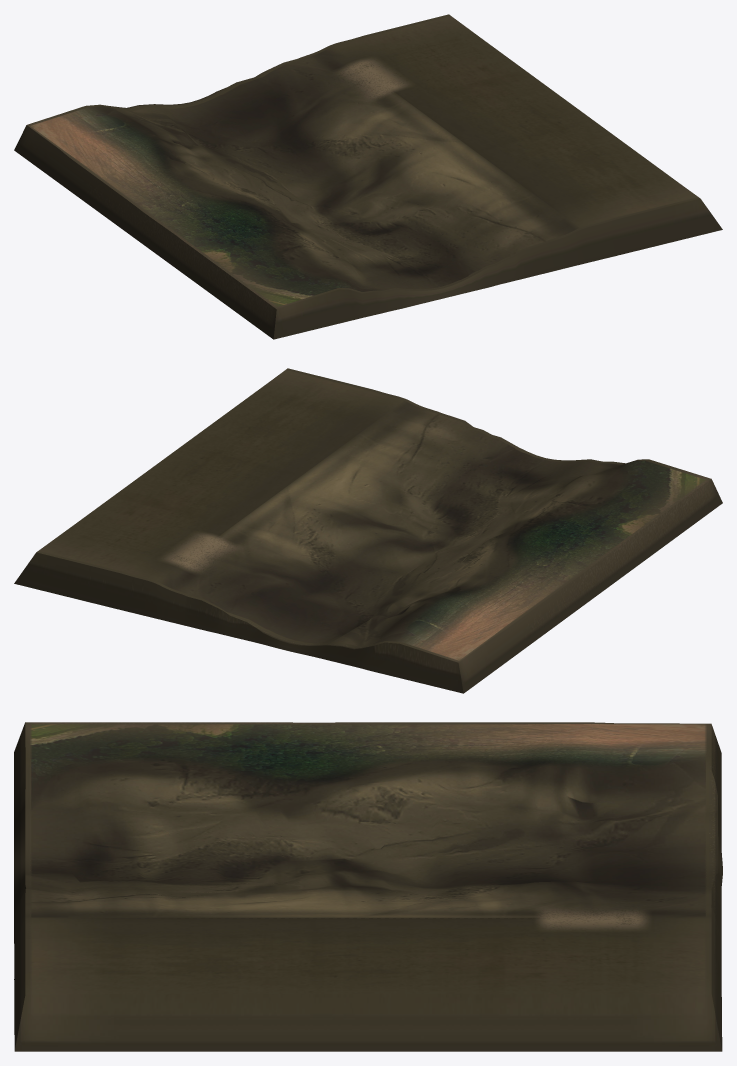
The model's file is busy-levee-ground-elevation.obj.
3 views of the same model, one above another, from view 1: azimuth 30°, elevation 25°; view 2: azimuth 150°, elevation 25°; view 3: azimuth 270°, elevation 25° (orthographic). The views are drawn at different scales.
Visible parts, largest first — view 1: Ground; view 2: Ground; view 3: Ground.
Part boxes in pixels (x1,y1,x2,y2): Ground: (14,14,722,339); Ground: (14,368,722,693); Ground: (14,722,722,1051).
Size of the model in its own units: 4993 by 355 by 5000.
1 material, 1 textured.
